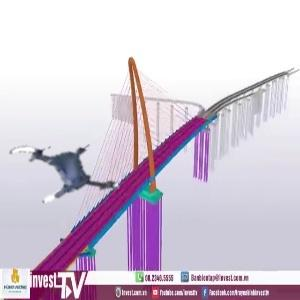drone: (9, 122, 111, 224)
